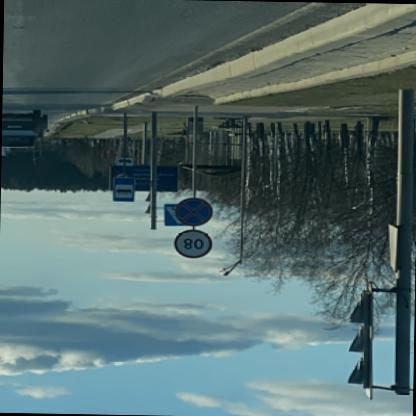speedlimit: (172, 230, 210, 259)
